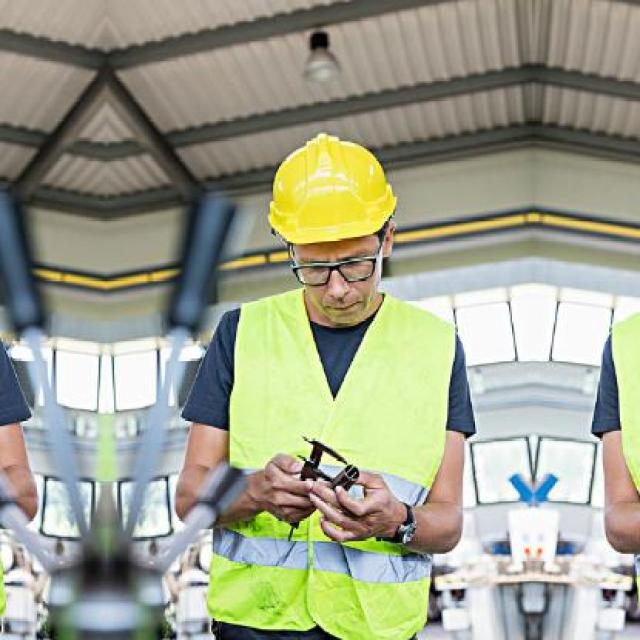helmet: (246, 108, 408, 329)
